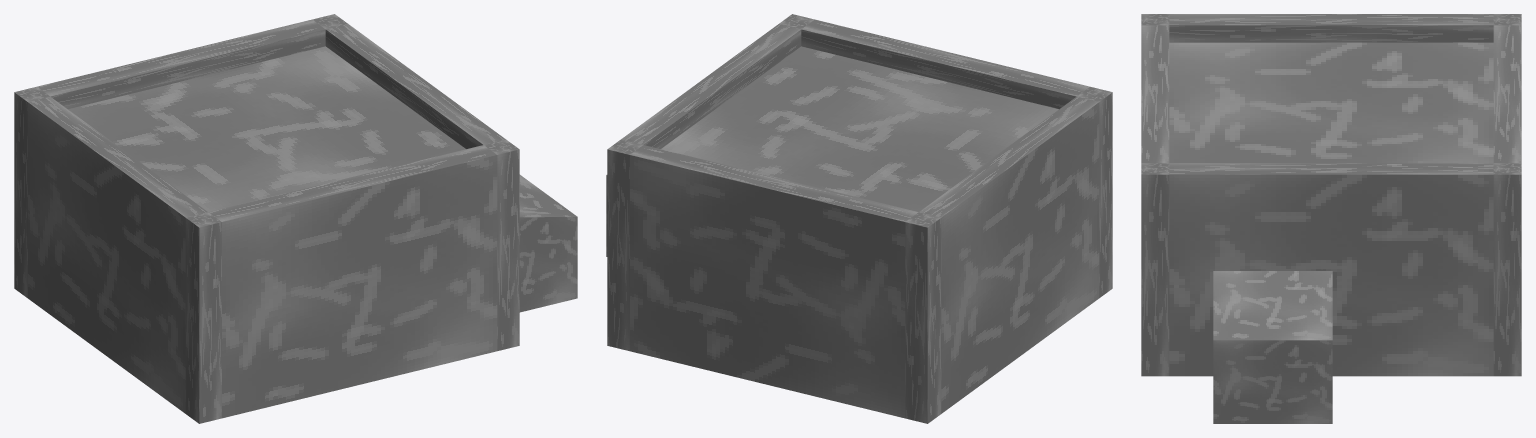
The model's file is testhouse.obj.
3 views of the same model, side by side, from view 1: azimuth 30°, elevation 25°; view 2: azimuth 150°, elevation 25°; view 3: azimuth 270°, elevation 25° (orthographic). The views are drawn at different scales.
Parts seen in each view (by area): view 1: Cube; view 2: Cube; view 3: Cube.
Part boxes in pixels (x1=…): Cube: x1=14, y1=14, x2=577, y2=423; Cube: x1=606, y1=14, x2=1112, y2=423; Cube: x1=1141, y1=14, x2=1521, y2=423.
Size of the model in its own units: 263 by 120 by 204.
